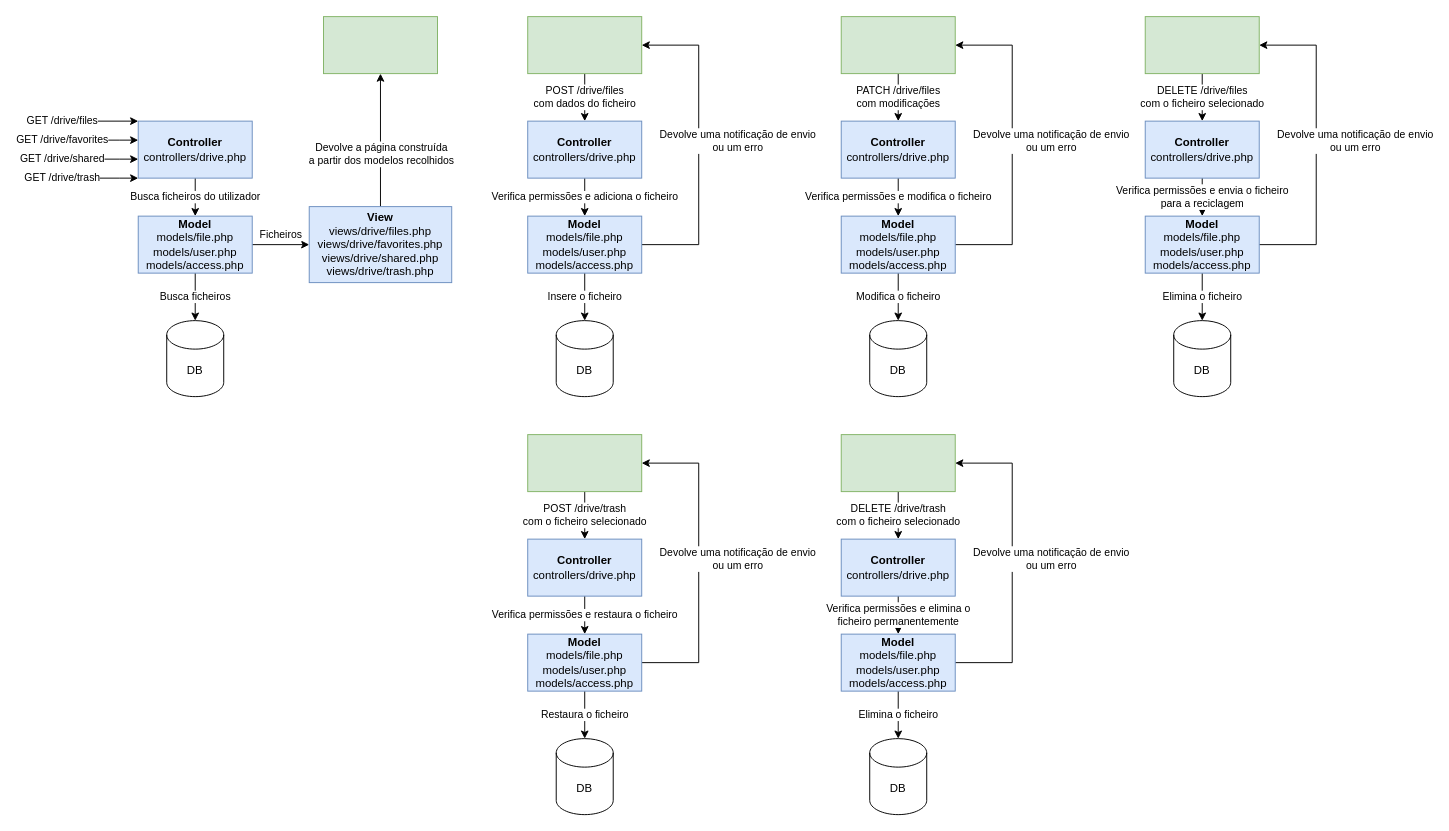
Some shapes in this 1449 by 831 pixel diagram are drawn without their labels. Here are the shapes that lost their labels. From the top down, the centre of each, then its label:
At point 380,45: "Páginas de ficheiros".
At point 584,45: "Arrastar ficheiro ou Upload pelo botão +".
At point 897,45: "Modifica o ficheiro (renomear, adicionar aos favoritos, partilhar, etc.)".
At point 1201,45: "Elimina o ficheiro da drive".
At point 584,463: "Restaura um ficheiro da reciclagem".
At point 897,463: "Elimina o ficheiro da reciclagem".
